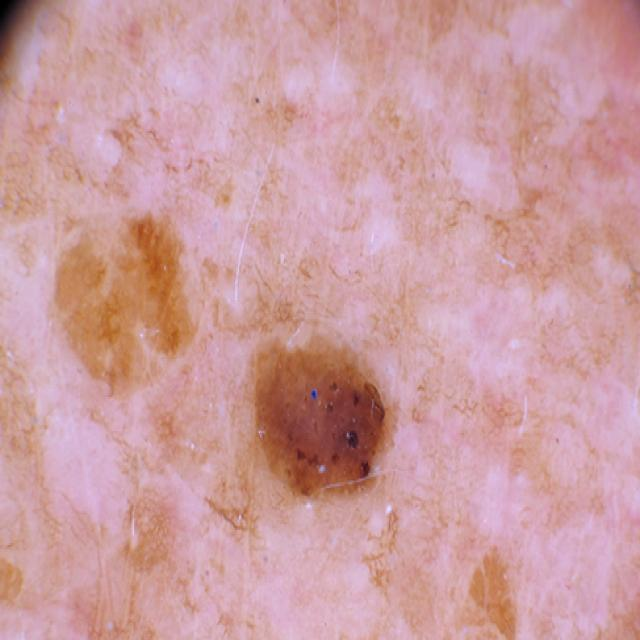Keratosis: (50, 192, 197, 471), (242, 318, 423, 522), (464, 545, 557, 640), (0, 480, 43, 626)
